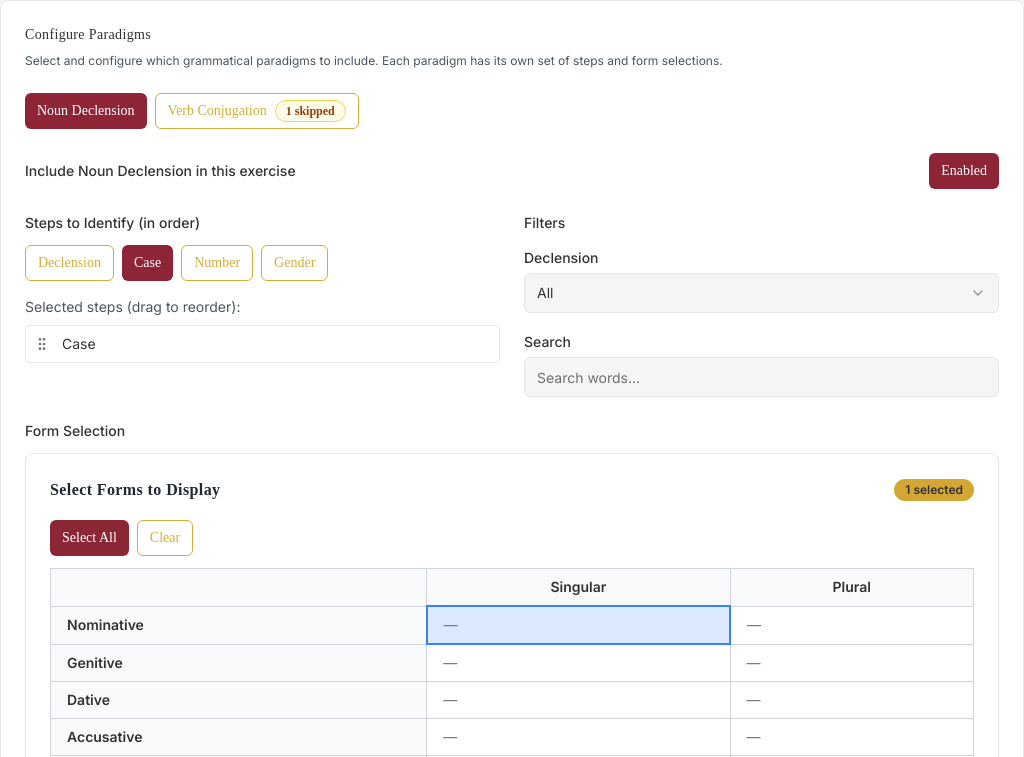
Test: MultiParadigmConfigSection compatibility feedback › marks skipped forms on an inactive paradigm tab and explains them when selected
Expected: the text "Some selected forms will be skipped" is not shown
Click the button "Verb Conjugation 1 skipped" at x=257, y=111, box [155,93,359,129]
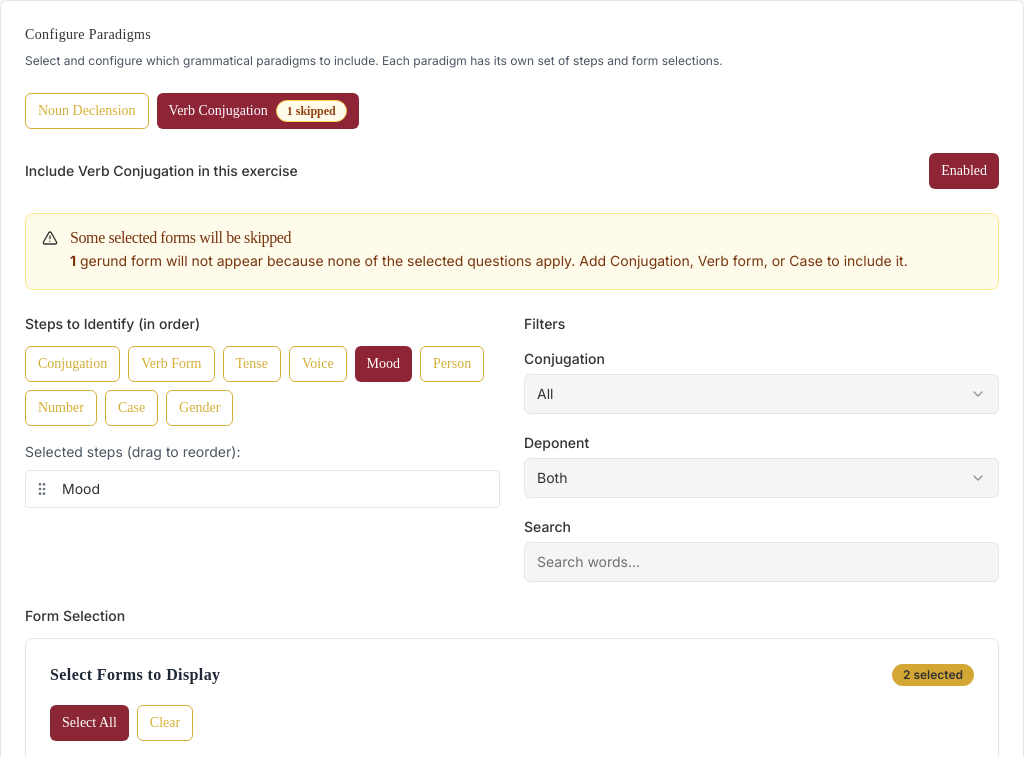
Expected: the text "1 skipped" is shown, [276,100,347,122]
Now the heading "Some selected forms will be skipped" is shown, box [70,229,291,246]
